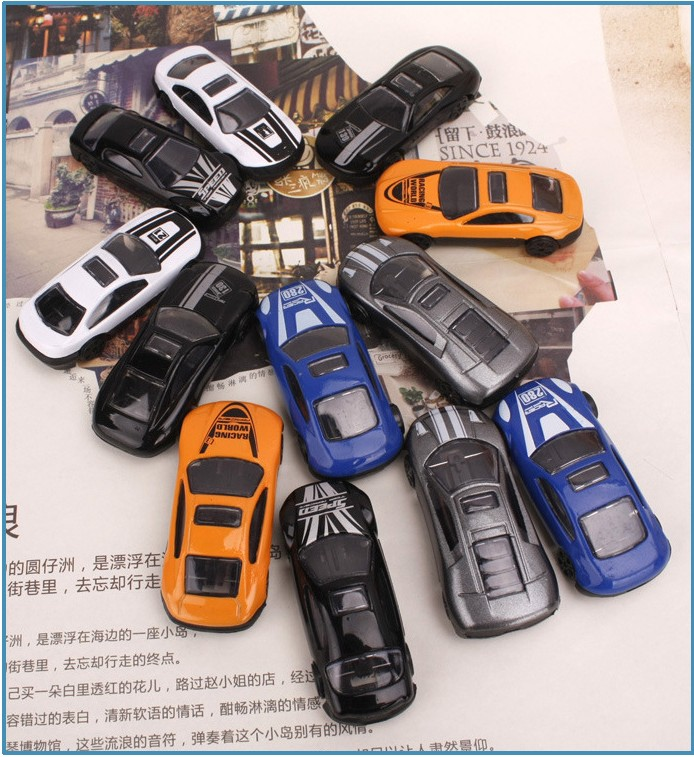Car: (495, 373, 686, 598), (275, 475, 432, 731), (394, 402, 562, 640), (334, 227, 548, 408), (252, 267, 421, 486), (88, 252, 258, 462), (251, 275, 413, 488), (161, 390, 281, 646), (307, 36, 491, 191), (66, 97, 249, 248), (16, 206, 197, 354), (364, 149, 590, 261), (150, 36, 306, 178)
